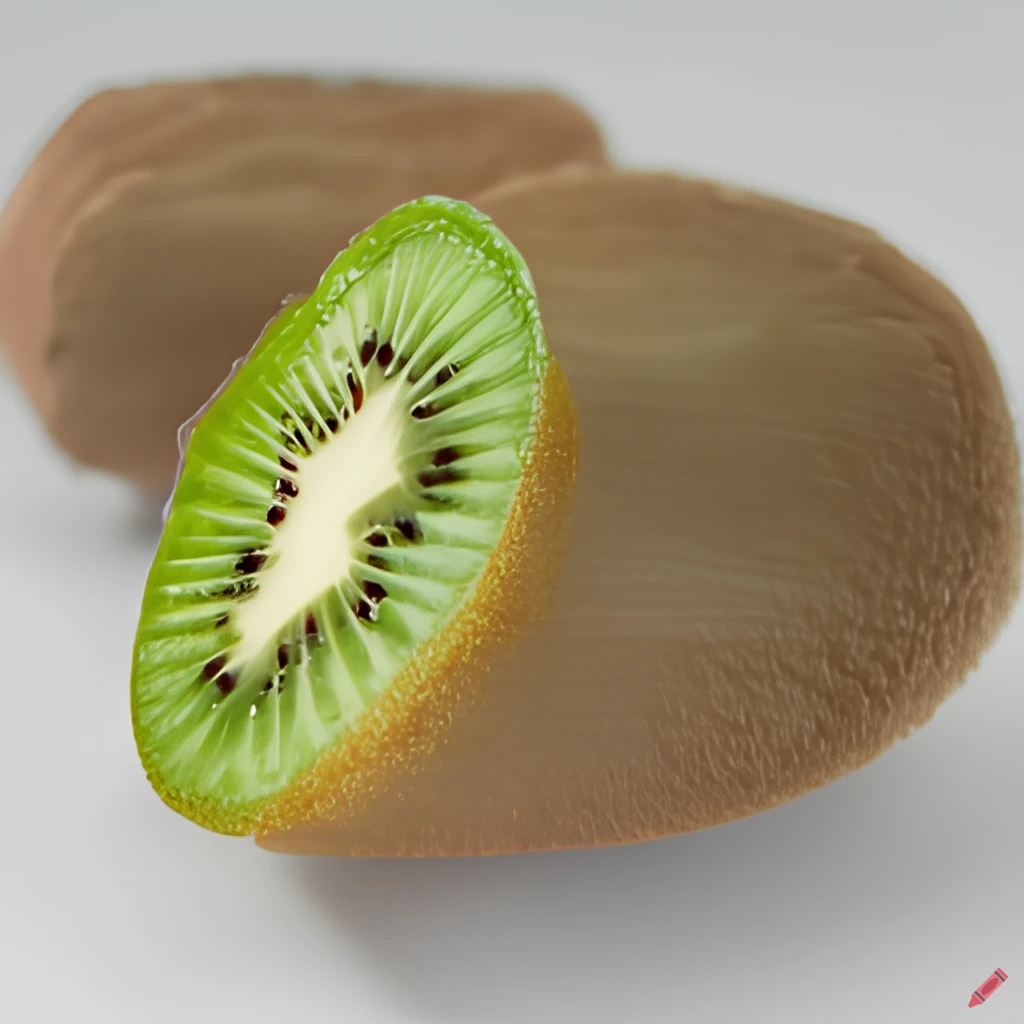Kiwi: (118, 118, 1004, 884)
